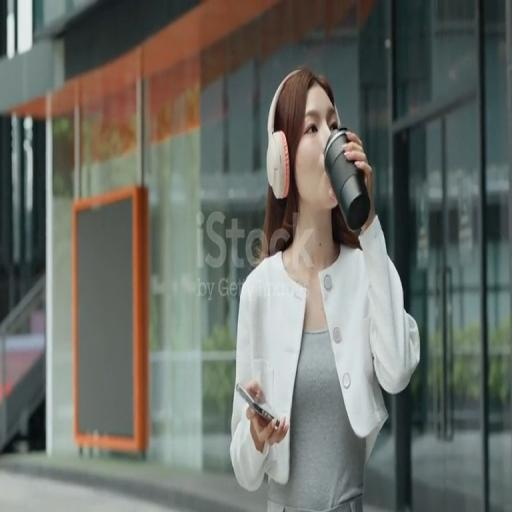earphone: (268, 68, 366, 199)
